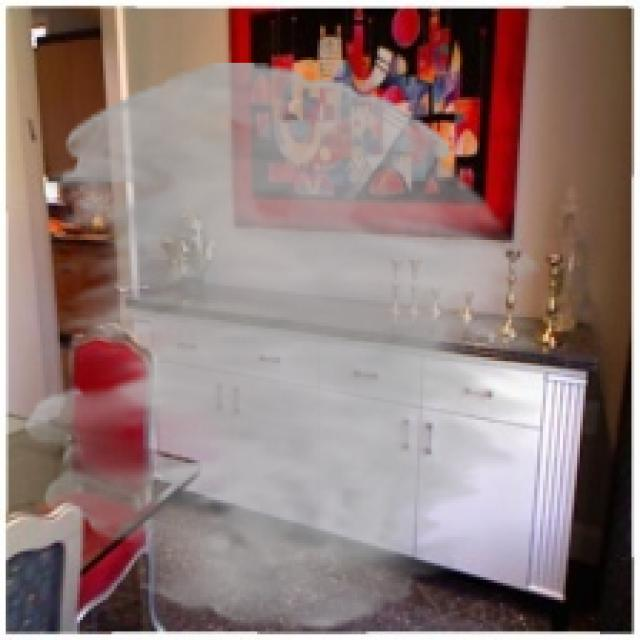smoke: (26, 63, 546, 631)
